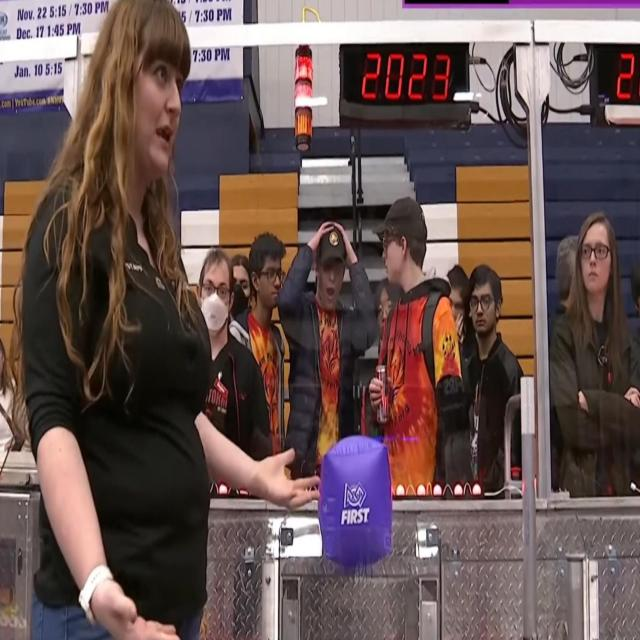frc_cube: (317, 433, 390, 566)
